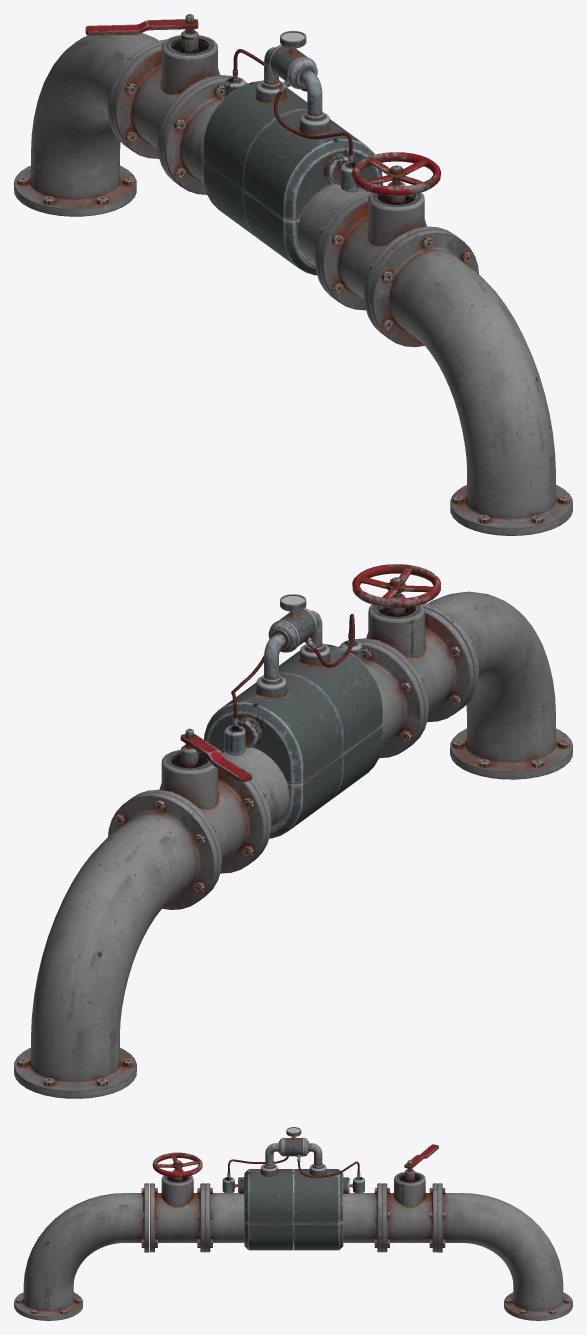
Rendered from run.glb.
The picture shows the model from 3 angles, top to bottom: view 1: azimuth 30°, elevation 25°; view 2: azimuth 150°, elevation 25°; view 3: azimuth 270°, elevation 25°; orthographic projection. The views are drawn at different scales.
Parts seen in each view (by area): view 1: PipeValve2_Pipe_0; view 2: PipeValve2_Pipe_0; view 3: PipeValve2_Pipe_0.
Part boxes in pixels (x1=…): PipeValve2_Pipe_0: x1=14, y1=14, x2=572, y2=535; PipeValve2_Pipe_0: x1=14, y1=564, x2=572, y2=1098; PipeValve2_Pipe_0: x1=14, y1=1127, x2=572, y2=1320.
Size of the model in its own units: 52.68 by 117 by 335.
Materials: 1 (1 with a texture image).
